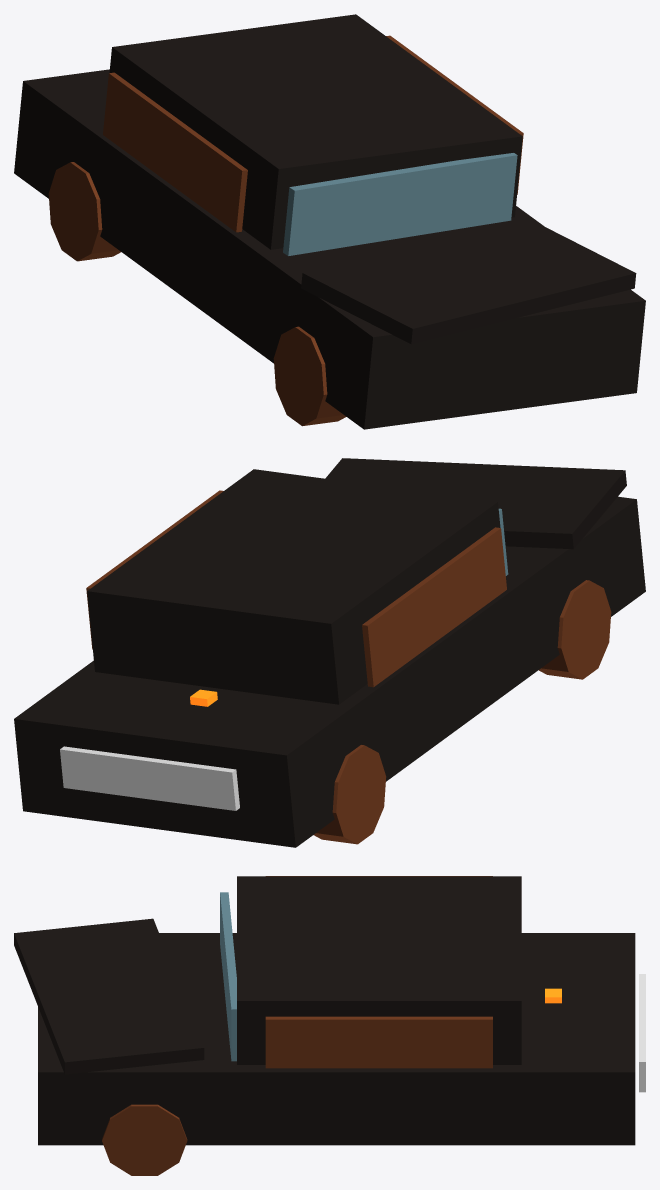
File: car_wreck.glb
3 views of the same model, one above another, from view 1: azimuth 30°, elevation 25°; view 2: azimuth 150°, elevation 25°; view 3: azimuth 270°, elevation 25° (orthographic). The views are drawn at different scales.
Parts seen in each view (by area): view 1: car_wreck; view 2: car_wreck; view 3: car_wreck.
Part boxes in pixels (bbox=[...]): car_wreck: bbox=[14, 14, 645, 429]; car_wreck: bbox=[14, 458, 645, 847]; car_wreck: bbox=[14, 876, 645, 1175].
Size of the model in its own units: 2.08 by 1.54 by 4.44.
